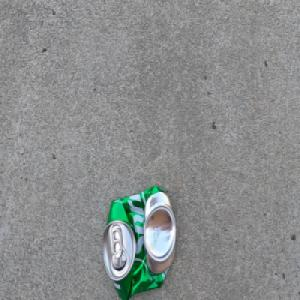SodaCan: (101, 184, 177, 300)
